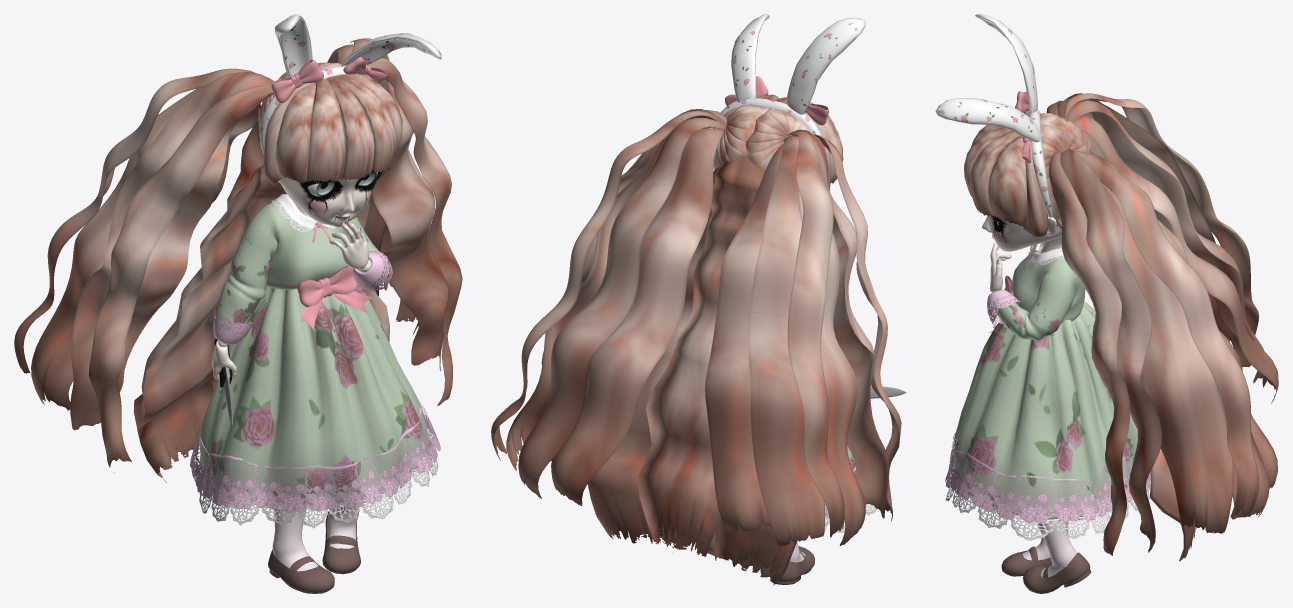
3 views of the same model, side by side, from view 1: azimuth 30°, elevation 25°; view 2: azimuth 150°, elevation 25°; view 3: azimuth 270°, elevation 25° (orthographic). The views are drawn at different scales.
Parts seen in each view (by area): view 1: Skirt, TwinTail.005, TwinTail.006, Hair Back.002, Skirt Frill, Tops, TwinTail.003, TwinTail.004, Rabbit Ear, Hair Front.003, Shoes, Skirt Frill 002 (+16 smaller); view 2: TwinTail.001, TwinTail.002, Hair Back.001, TwinTail.004, TwinTail.003, Hair Back.002, TwinTail.005, Rabbit Ear, Hair Top, TwinTail.006, Shoes, Hair Band (+2 smaller); view 3: Skirt, TwinTail.003, TwinTail.004, TwinTail.005, TwinTail.006, TwinTail.002, TwinTail.001, Skirt Frill, Tops, Rabbit Ear, Hair Front.004, Shoes (+13 smaller).
Part boxes in pixels (x1,y1,x2,y2): Skirt: [199, 279, 432, 507]; TwinTail.005: [70, 72, 448, 430]; TwinTail.006: [89, 58, 462, 472]; Hair Back.002: [133, 117, 389, 482]; Skirt Frill: [190, 401, 440, 512]; Tops: [215, 201, 389, 334]; TwinTail.003: [31, 86, 418, 410]; TwinTail.004: [14, 38, 392, 373]; Rabbit Ear: [274, 14, 441, 77]; Hair Front.003: [304, 78, 344, 183]; Shoes: [268, 509, 360, 593]; Skirt Frill 002: [194, 456, 438, 528]; TwinTail.001: [551, 128, 783, 532]; TwinTail.002: [518, 118, 824, 545]; Hair Back.001: [638, 156, 765, 557]; TwinTail.004: [491, 111, 844, 537]; TwinTail.003: [506, 115, 865, 545]; Hair Back.002: [587, 167, 797, 585]; TwinTail.005: [541, 109, 889, 518]; Rabbit Ear: [731, 14, 865, 114]; Hair Top: [713, 105, 808, 169]; TwinTail.006: [705, 110, 901, 521]; Shoes: [707, 530, 814, 584]; Hair Band: [713, 98, 824, 146]; Skirt: [953, 301, 1137, 521]; TwinTail.003: [1066, 99, 1233, 533]; TwinTail.004: [1065, 93, 1259, 517]; TwinTail.005: [1057, 93, 1162, 552]; TwinTail.006: [1046, 100, 1129, 555]; TwinTail.002: [1068, 100, 1269, 519]; TwinTail.001: [1072, 115, 1278, 488]; Skirt Frill: [945, 433, 1150, 522]; Tops: [993, 243, 1085, 340]; Rabbit Ear: [935, 14, 1040, 142]; Hair Front.004: [988, 136, 1027, 228]; Shoes: [1001, 546, 1091, 593].
Bounding box in the file's own units: 200 × 296 × 171.
